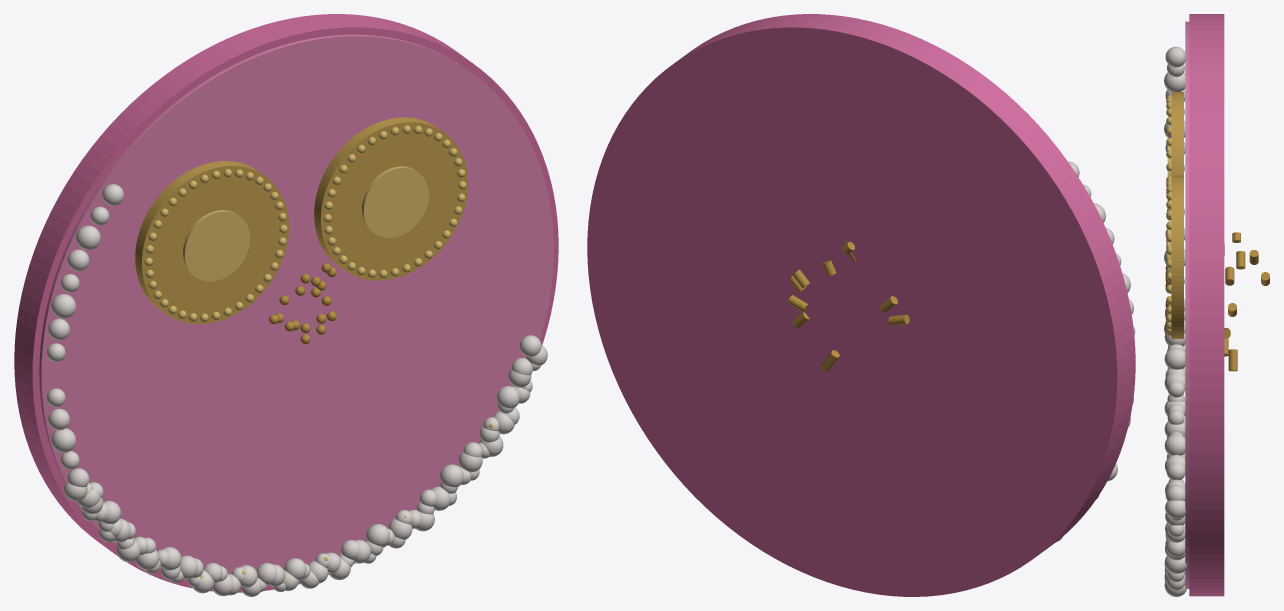
File: rakhi_3d_preview-1789654250923-617541907.glb
The picture shows the model from 3 angles, left to right: view 1: azimuth 30°, elevation 25°; view 2: azimuth 150°, elevation 25°; view 3: azimuth 270°, elevation 25°; orthographic projection. The views are drawn at different scales.
Parts seen in each view (by area): view 1: Pink top layer_1, Pink base_0, Gold diya plate_40, Gold diya plate_2, Raised center_3, Raised center_41; view 2: Pink base_0; view 3: Pink base_0, Pink top layer_1, Gold diya plate_40, Gold diya plate_2, Pearl_123, Pearl_141, Side pearl_242, Side pearl_240, Pearl_232, Pearl_234, Pearl_214, Pearl_147 (+13 smaller).
Part boxes in pixels (x1,y1,x2,y2): Pink top layer_1: (39,34,553,580); Pink base_0: (14,14,558,592); Gold diya plate_40: (314,117,467,280); Gold diya plate_2: (135,161,289,324); Raised center_3: (183,210,250,281); Raised center_41: (362,166,428,237); Pink base_0: (587,14,1135,596); Pink base_0: (1189,14,1224,596); Pink top layer_1: (1185,21,1189,588); Gold diya plate_40: (1171,175,1183,338); Gold diya plate_2: (1171,92,1183,175); Pearl_123: (1164,347,1185,369); Pearl_141: (1164,434,1185,455); Side pearl_242: (1165,46,1185,67); Side pearl_240: (1164,72,1185,91); Pearl_232: (1165,500,1185,518); Pearl_234: (1165,484,1185,500); Pearl_214: (1164,556,1186,573); Pearl_147: (1166,463,1185,479).
Bounding box in the file's own units: 100 × 100 × 18.19.
